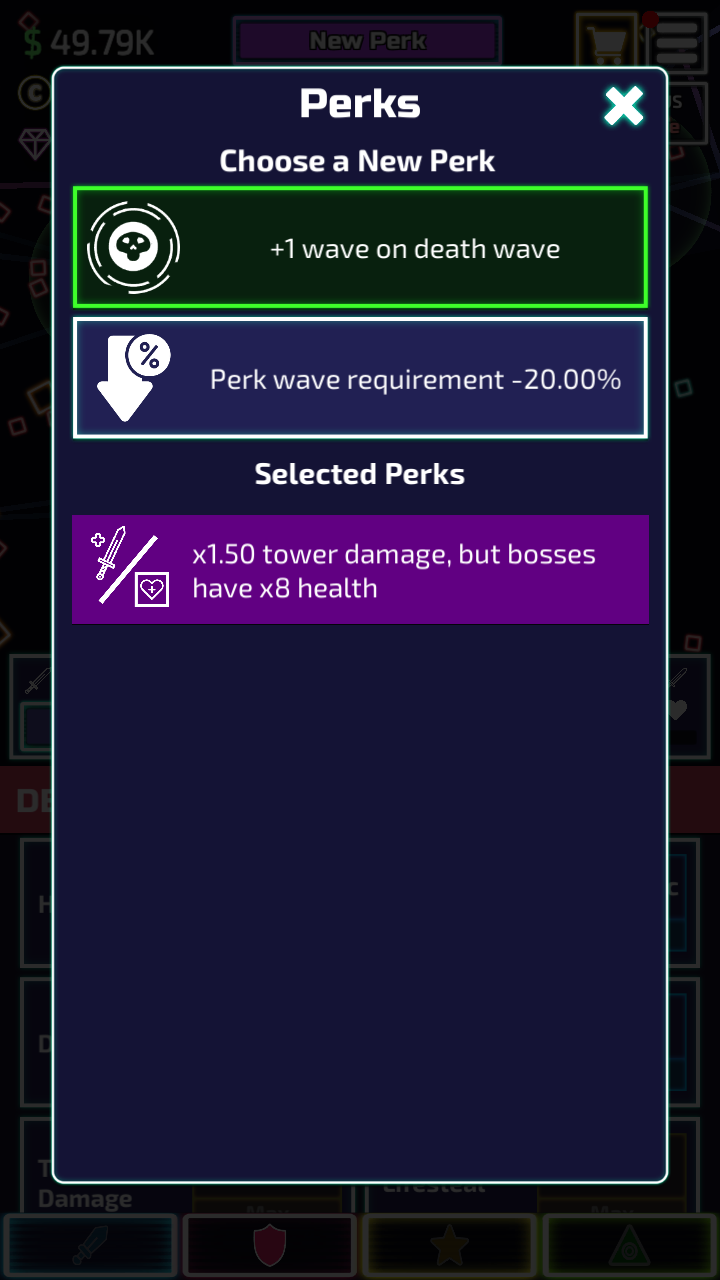B_Choose_Perks: (69, 141, 659, 447)
B_Menu_Action_Required: (639, 11, 712, 68)
B_Menu_Closed: (571, 15, 703, 66)
B_New_Perk: (230, 16, 500, 59)
B_Perk_Button: (69, 313, 650, 436), (71, 190, 646, 306)
B_Perk_Label: (182, 537, 600, 602), (206, 347, 626, 408), (260, 224, 569, 272)
B_Perk_Window: (49, 63, 671, 1189)
B_Selected_Perks: (69, 454, 657, 630)
